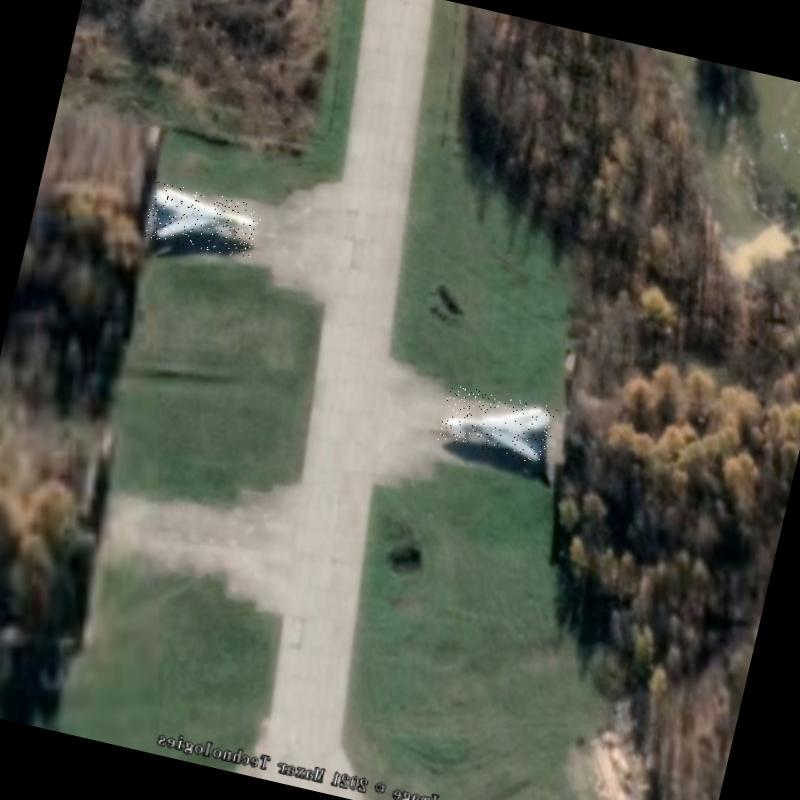A20: (142, 180, 264, 261), (437, 383, 557, 465)
